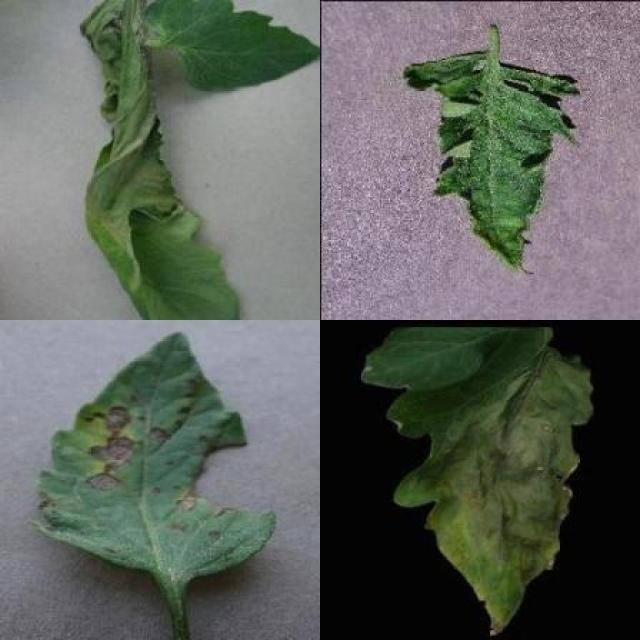Early Blight: (36, 331, 276, 586)
Healthy: (143, 0, 320, 94)
Late Blight: (361, 326, 596, 636), (80, 0, 240, 320)
Mosaic Virus: (398, 48, 582, 278)
